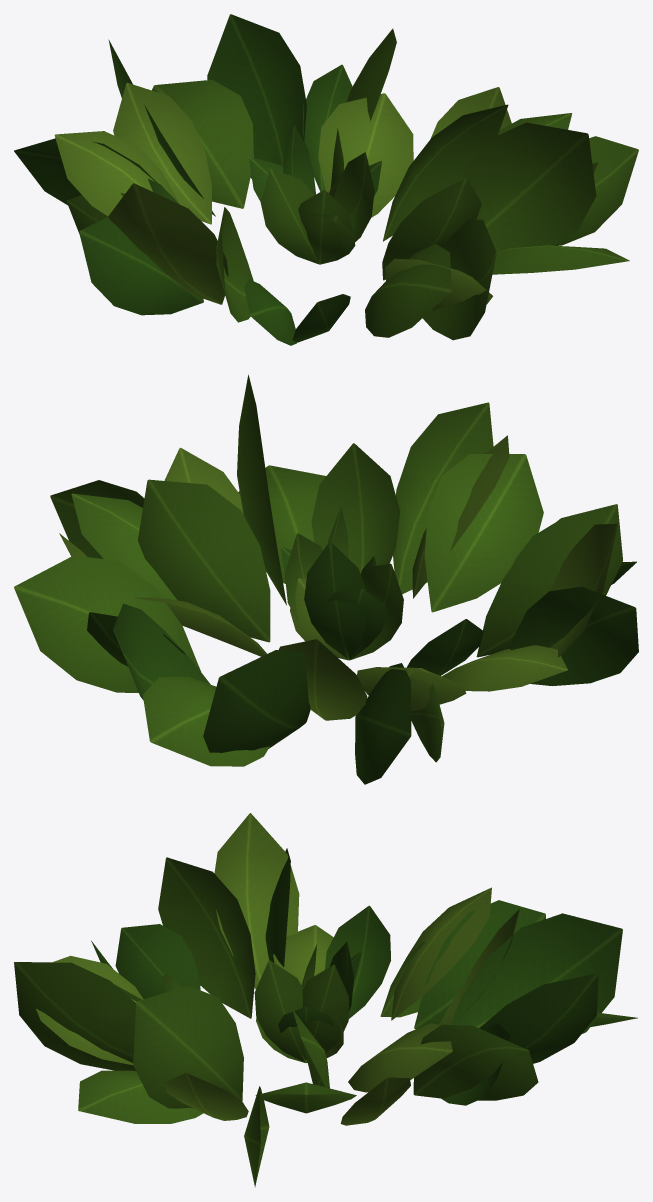
Rendered from Groundcover_1.glb.
3 renders of one model, top to bottom at view 1: azimuth 30°, elevation 25°; view 2: azimuth 150°, elevation 25°; view 3: azimuth 270°, elevation 25°, orthographic. The views are drawn at different scales.
Visible parts, largest first — view 1: Groundcover_1_Leaves.004; view 2: Groundcover_1_Leaves.004; view 3: Groundcover_1_Leaves.004.
Boxes of the visible parts, x1,y1,x2,y2 form: Groundcover_1_Leaves.004: (14,14,638,345); Groundcover_1_Leaves.004: (14,374,638,784); Groundcover_1_Leaves.004: (14,813,637,1187).
Bounding box in the file's own units: 0.9095 × 0.2708 × 0.9377.
1 material, 1 textured.
